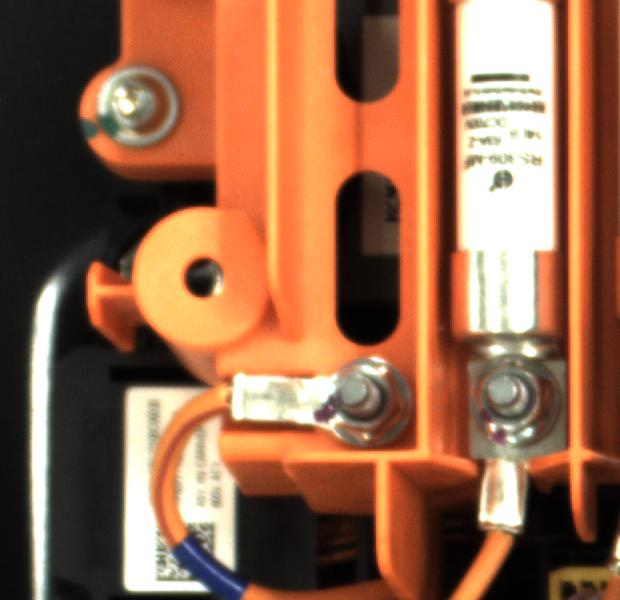screw_m: (81, 53, 193, 156)
screw_s: (313, 352, 414, 446), (468, 355, 566, 447)
